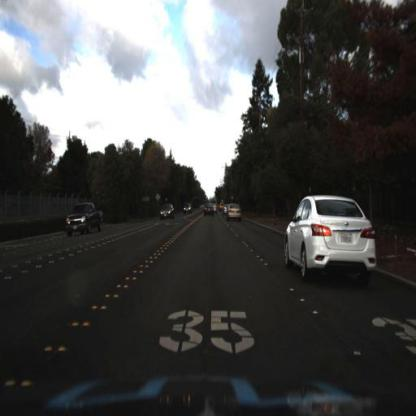car: (283, 197, 382, 280), (66, 203, 106, 237), (225, 199, 243, 222), (161, 202, 177, 218), (183, 202, 196, 217), (204, 201, 216, 217)
